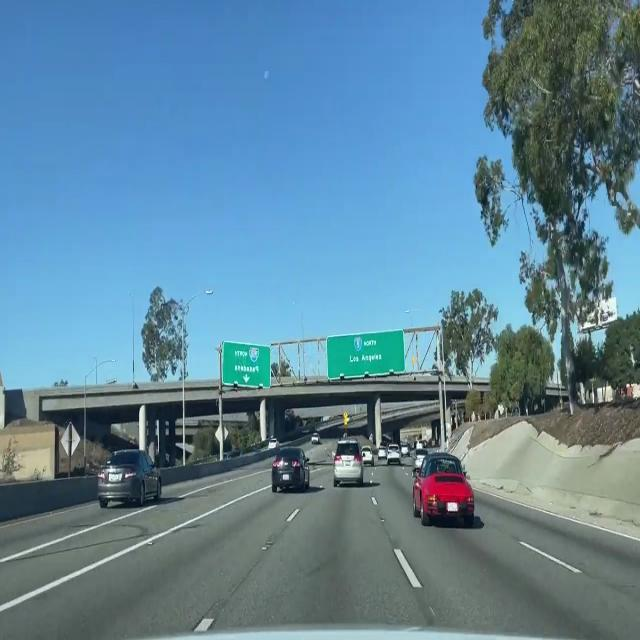street-signs: (326, 328, 406, 380), (222, 341, 271, 389)
